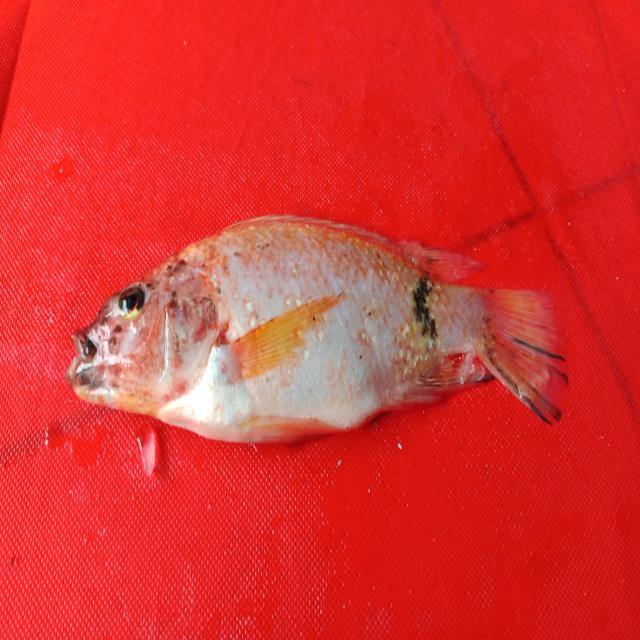ikan: (56, 194, 577, 459)
